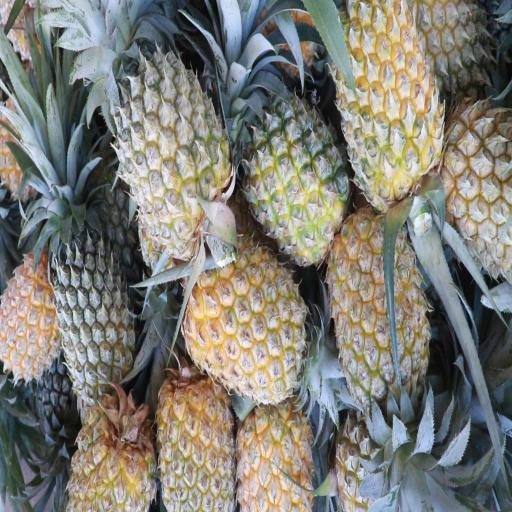------------------------------: (116, 51, 226, 248), (248, 96, 344, 260), (436, 93, 512, 255), (338, 403, 425, 512)
Pineapple - v8 v1: (332, 0, 440, 192), (328, 217, 430, 405), (185, 242, 304, 402), (156, 373, 232, 512), (66, 407, 155, 512), (235, 399, 315, 512), (0, 258, 62, 378)
